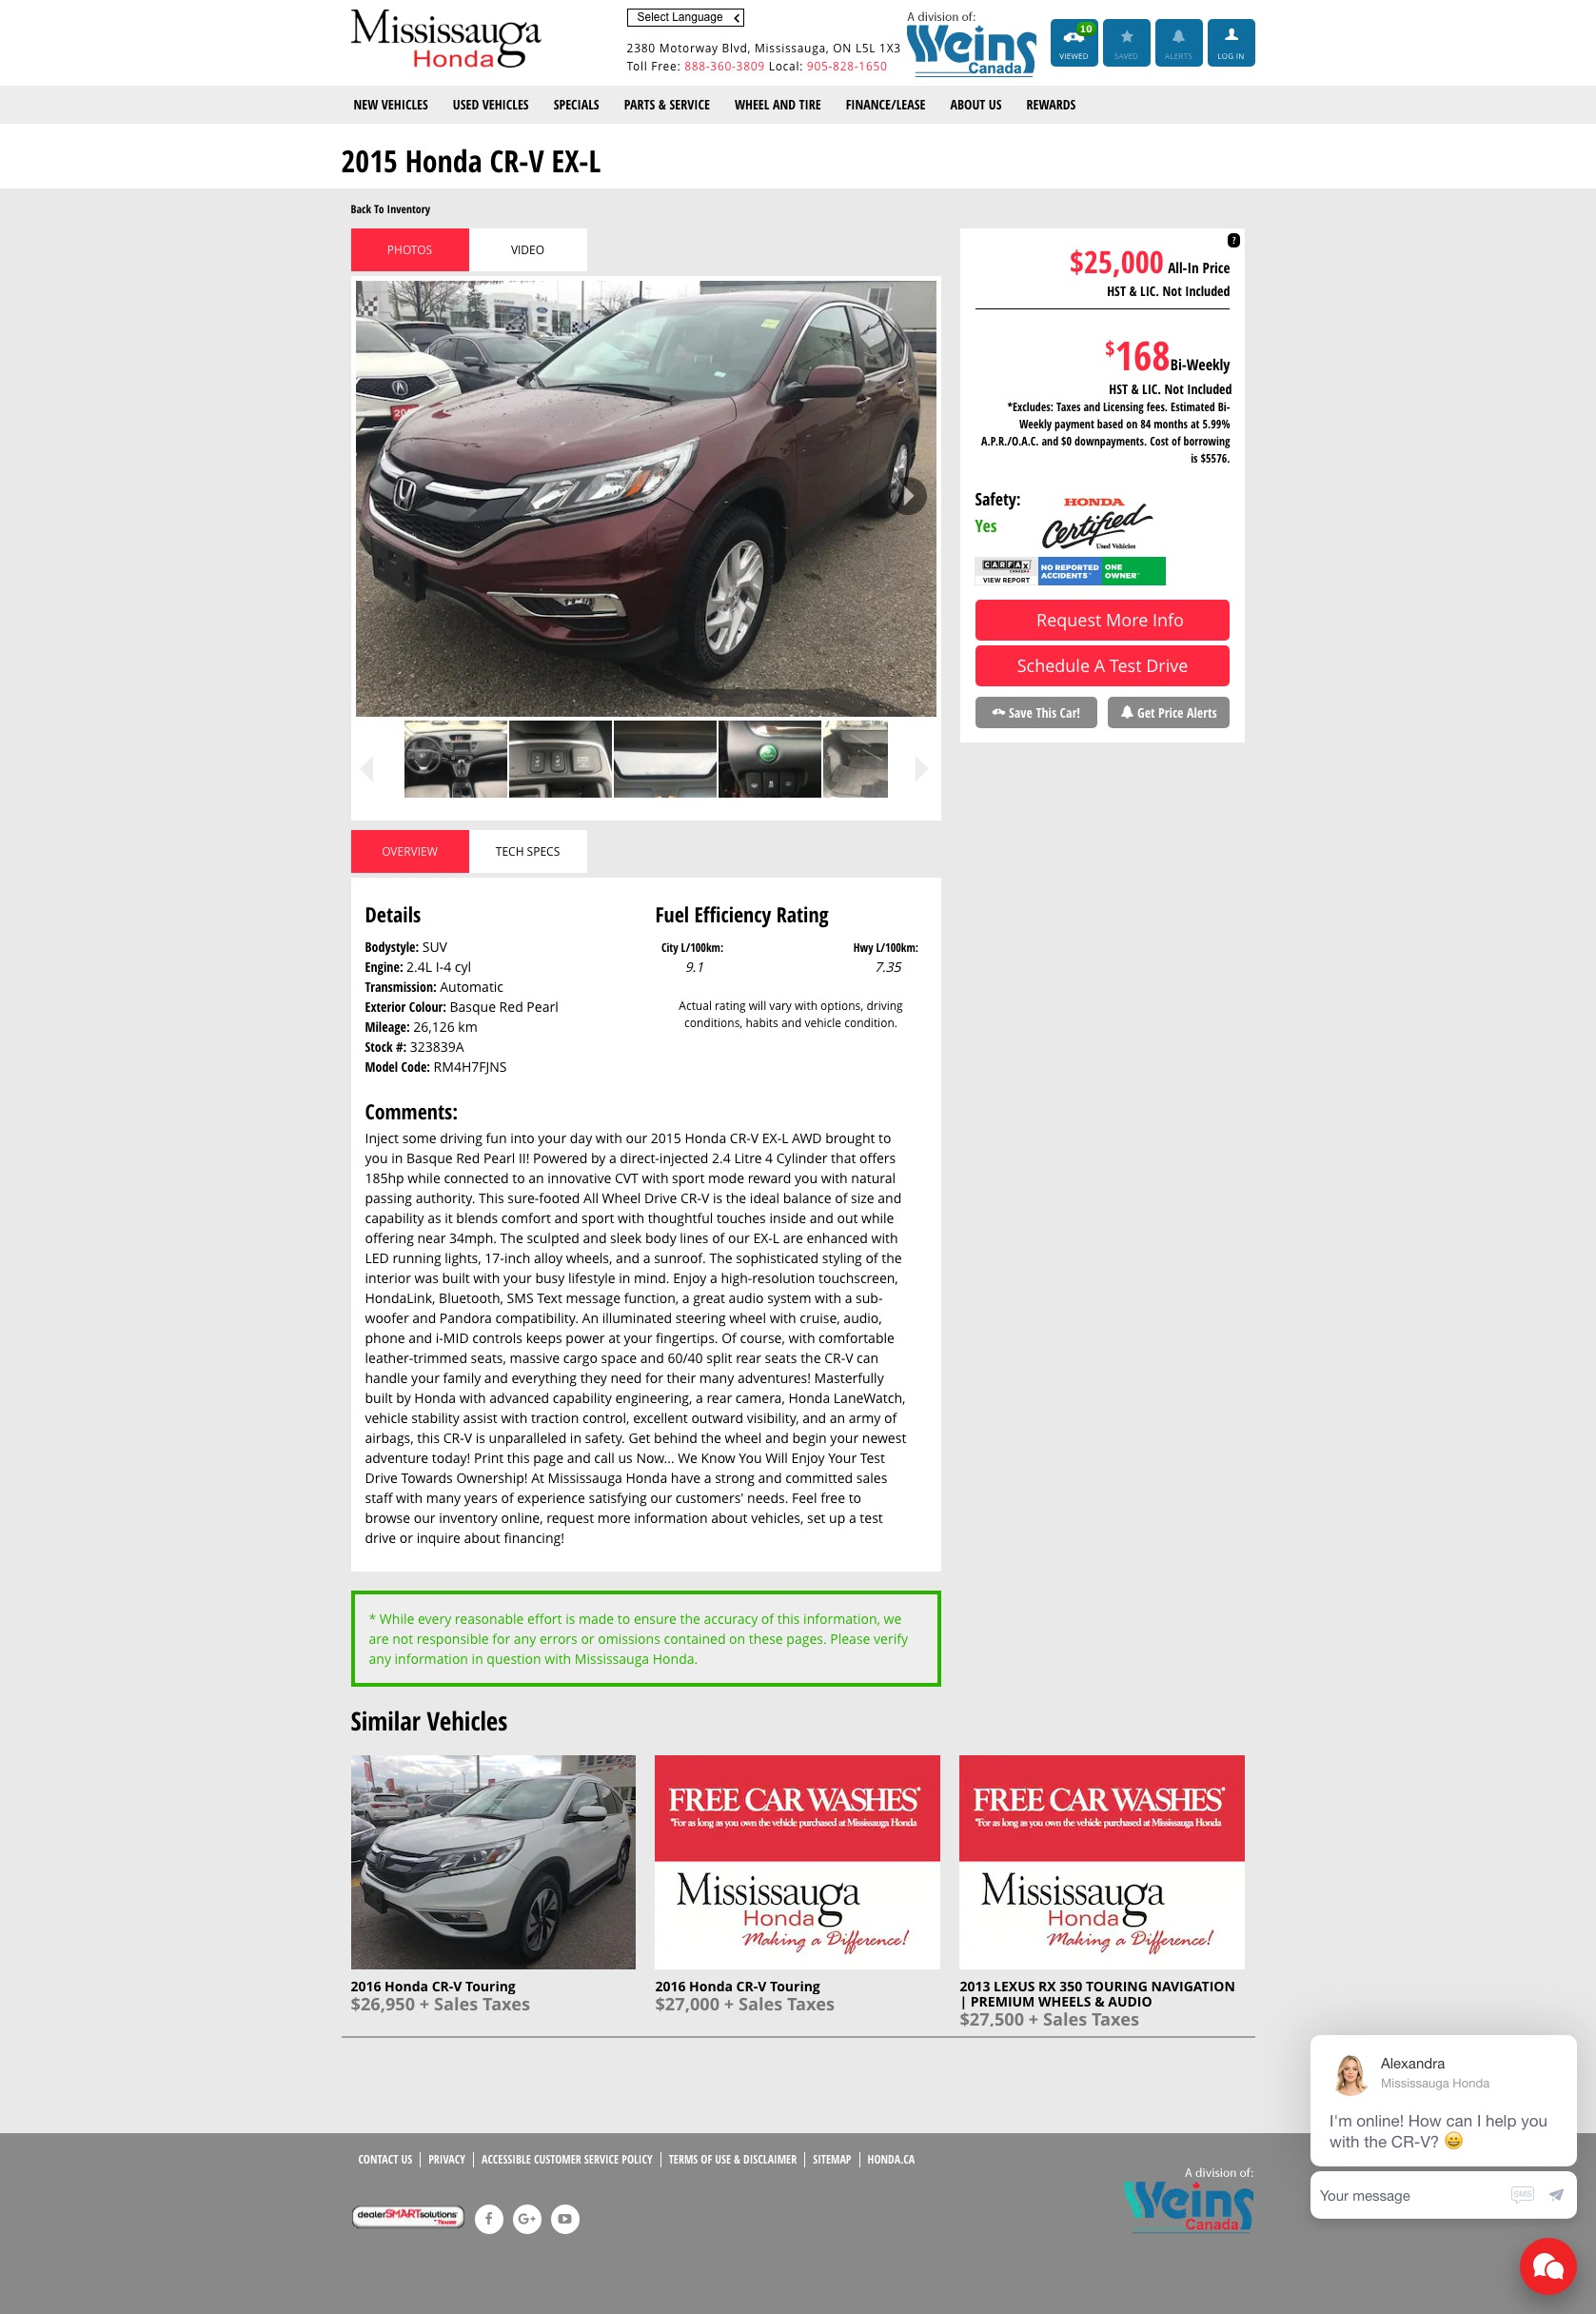car: (914, 753, 930, 784)
